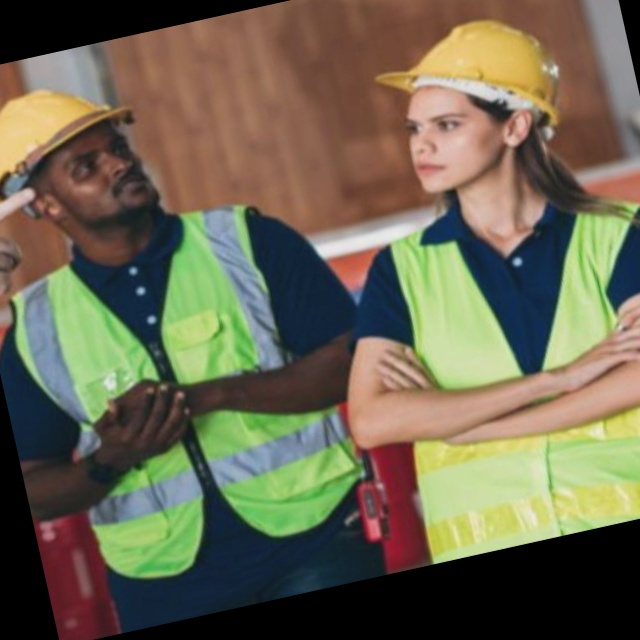Con_Casco: (369, 1, 580, 196), (0, 66, 163, 250)
Con_Chaleco: (3, 188, 359, 575), (357, 177, 640, 565)
